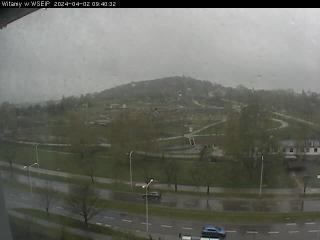car: (201, 223, 227, 237), (143, 190, 162, 200)
